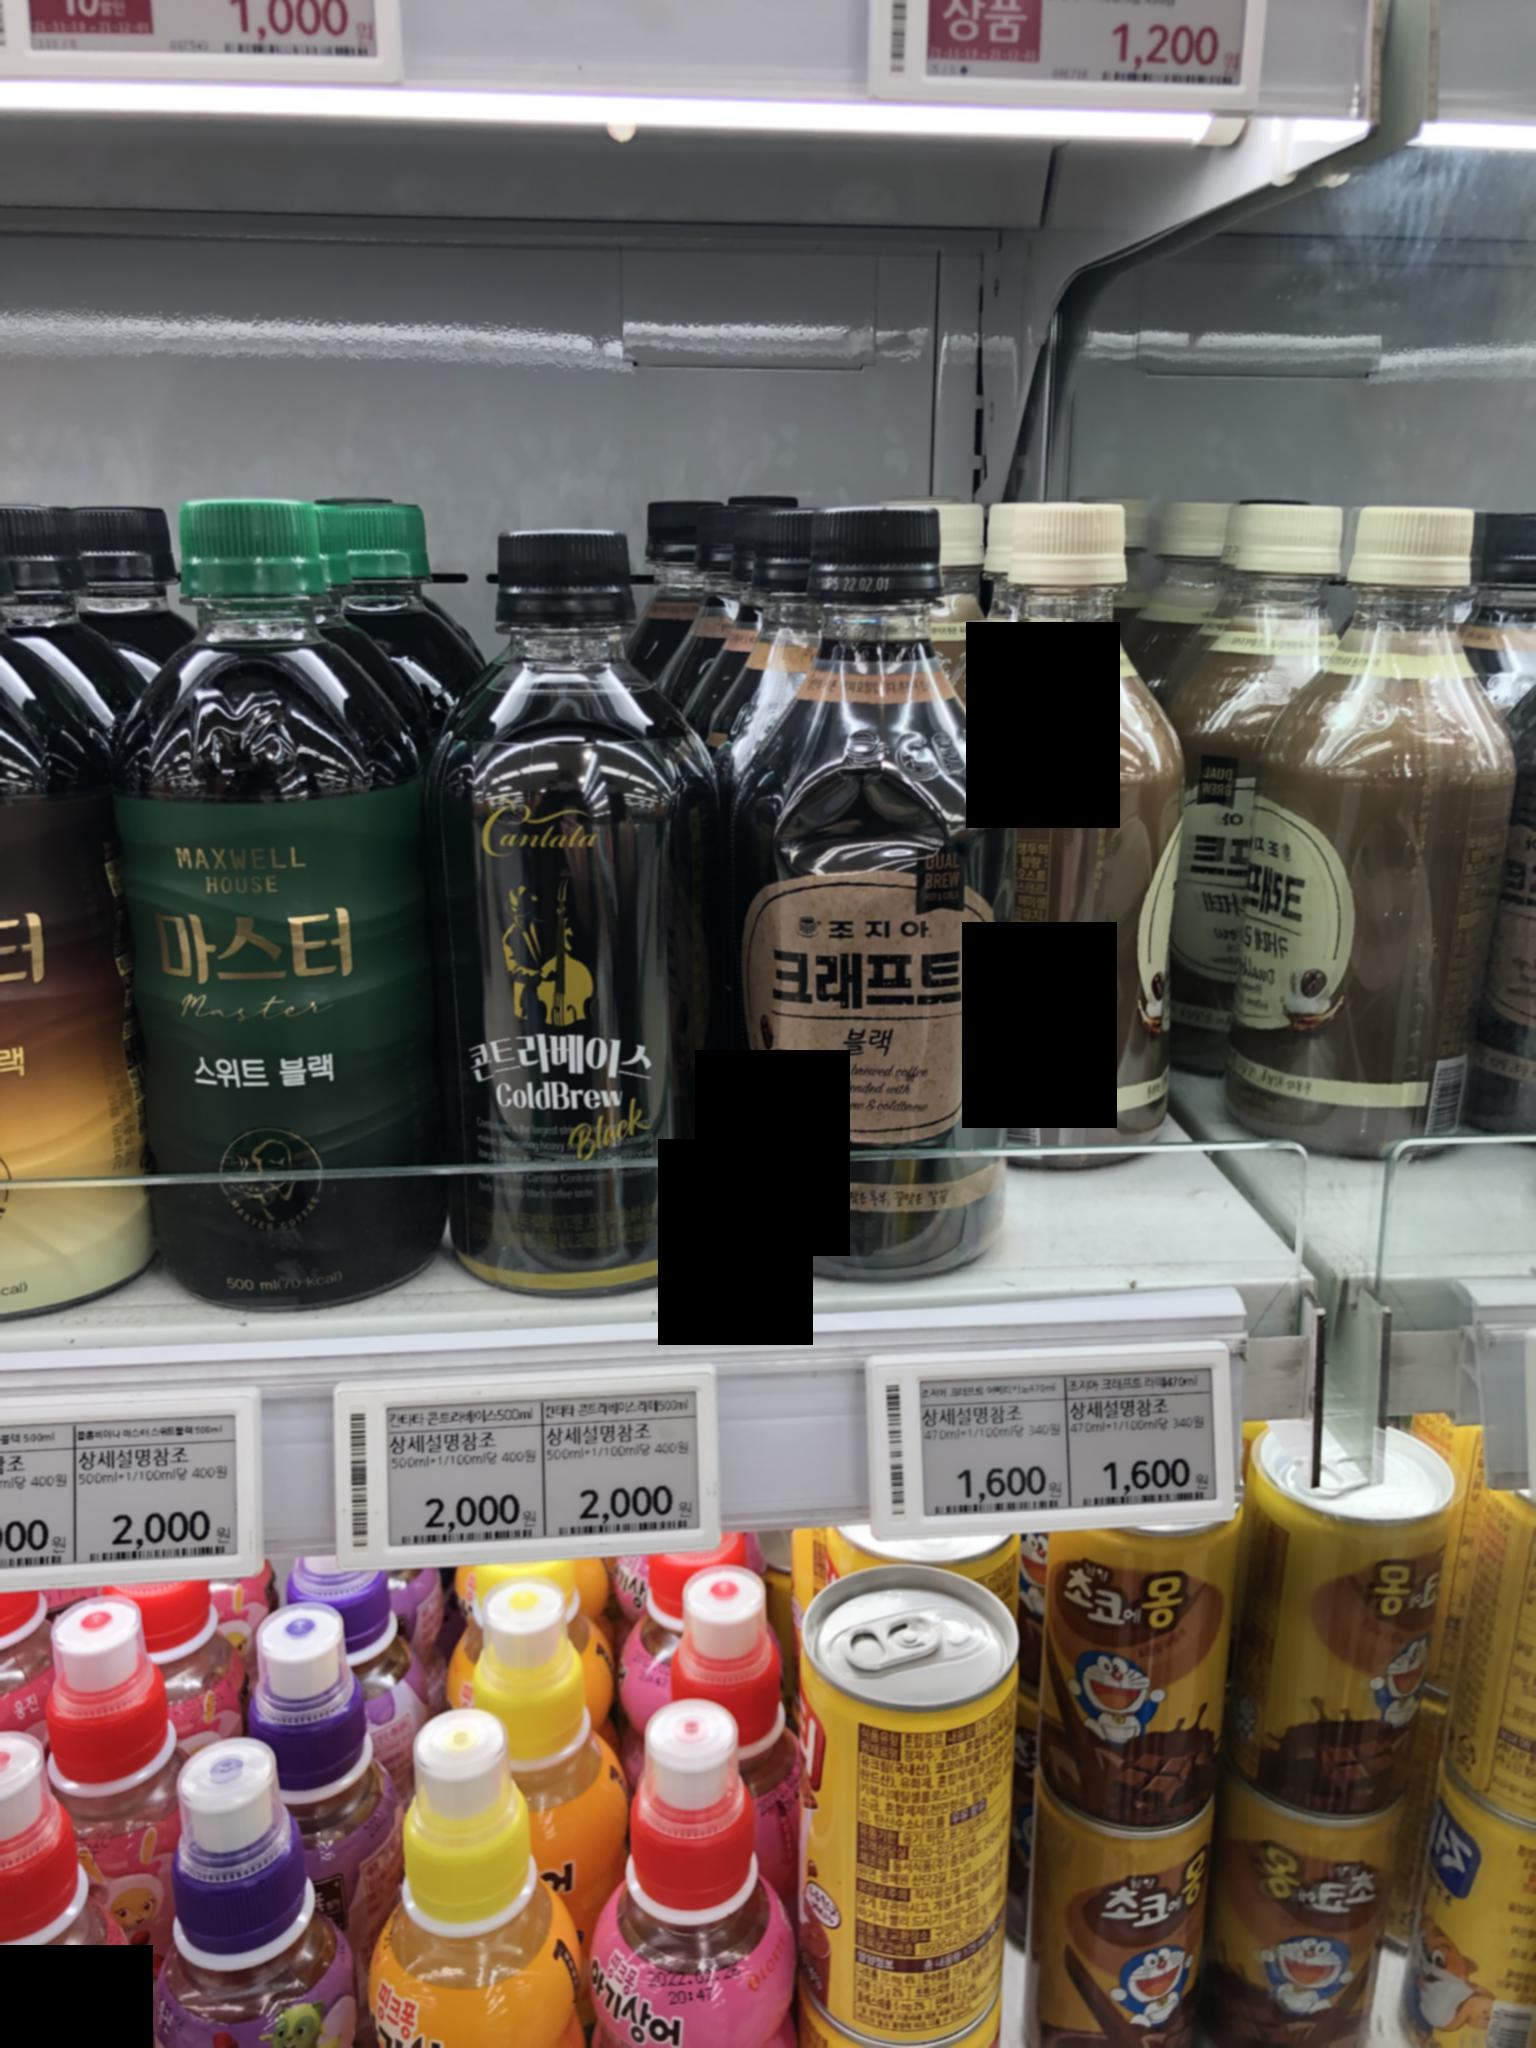georgiacraft_black: (729, 498, 1036, 1285)
